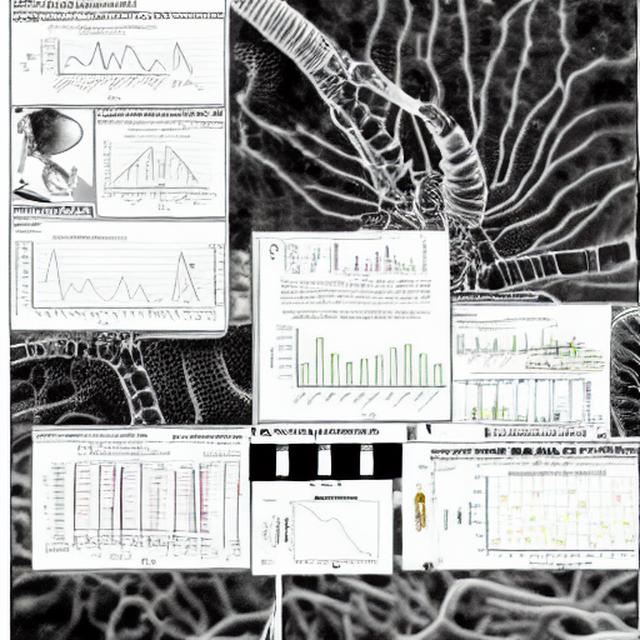Graph: (264, 307, 449, 418), (467, 469, 638, 567), (12, 234, 172, 326), (36, 23, 170, 102), (280, 489, 389, 571), (319, 235, 394, 279), (453, 325, 524, 370)
